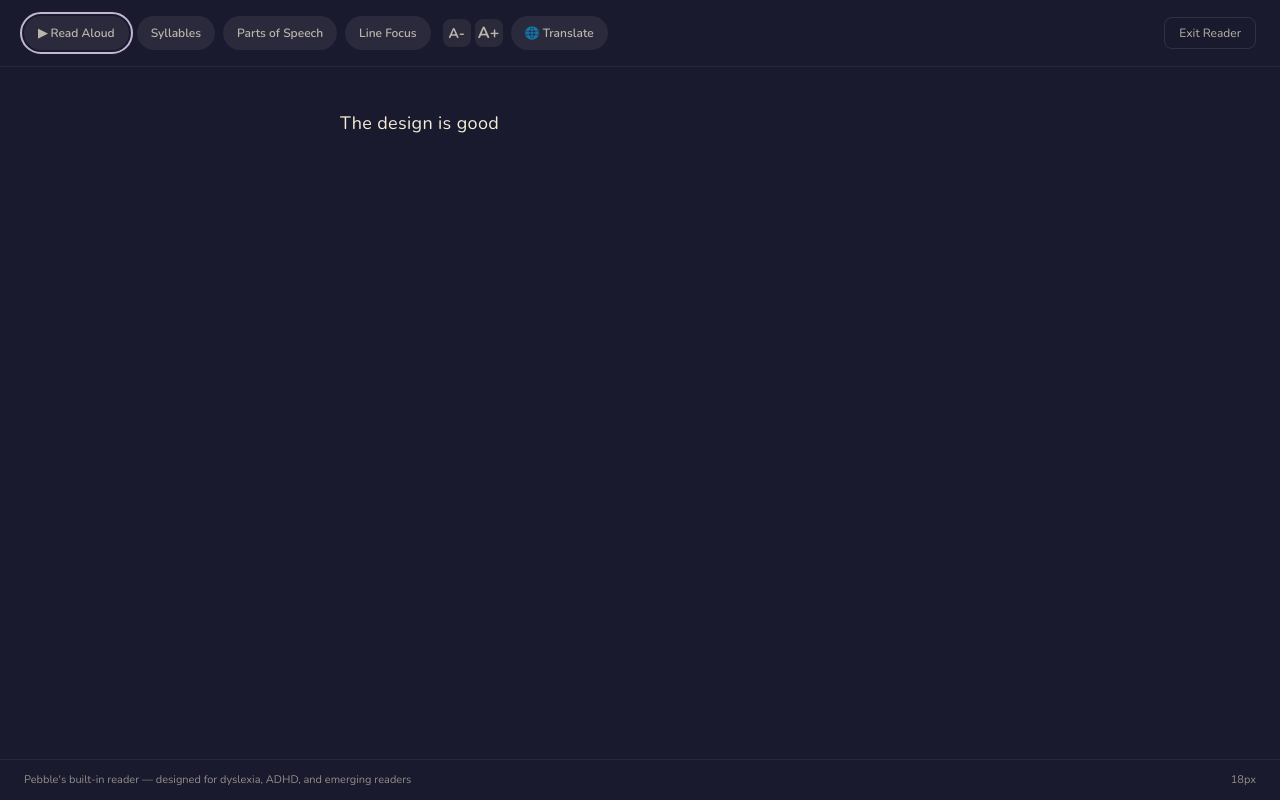
Test: ImmersiveReader › built-in reader › marks parts of speech and shows a legend
Click the button "Parts of Speech" at coordinates (280, 33), box [223,16,337,50]
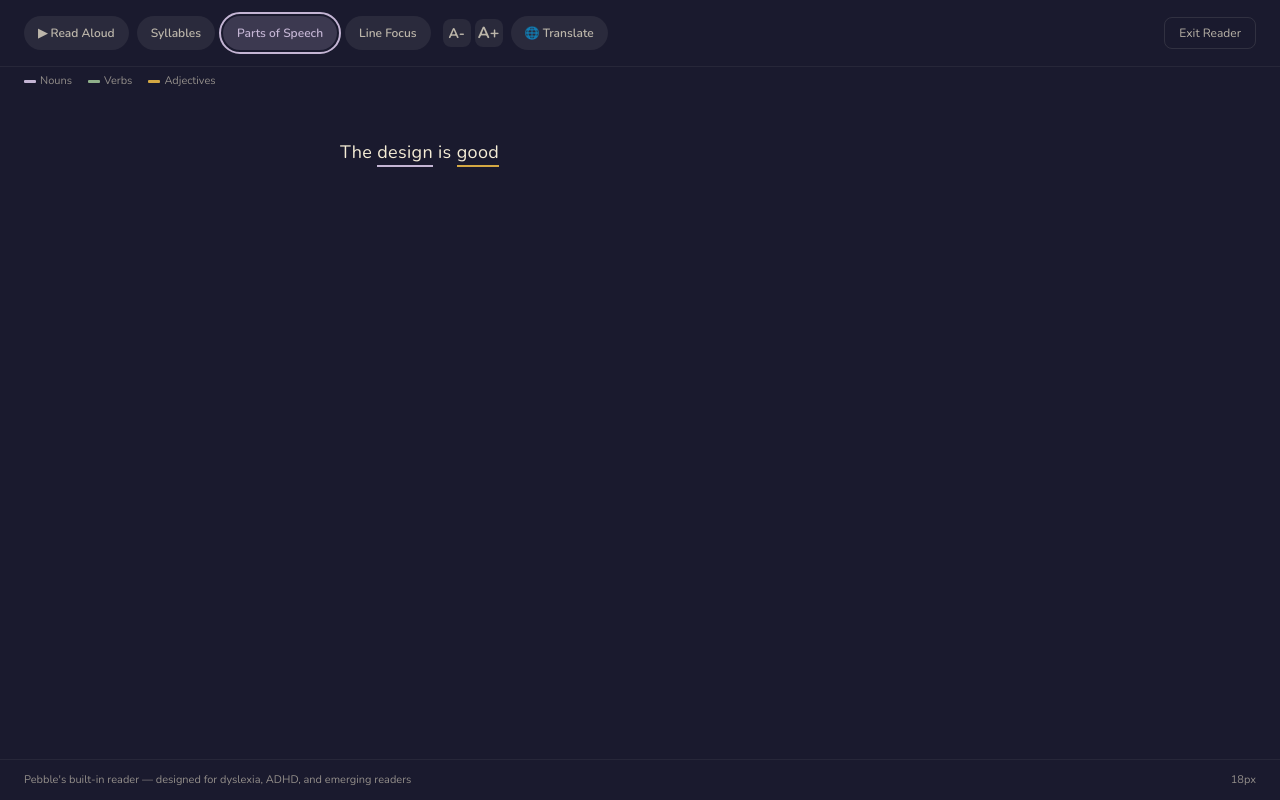
Result: the text "Nouns" is shown at [24,73,72,90]
